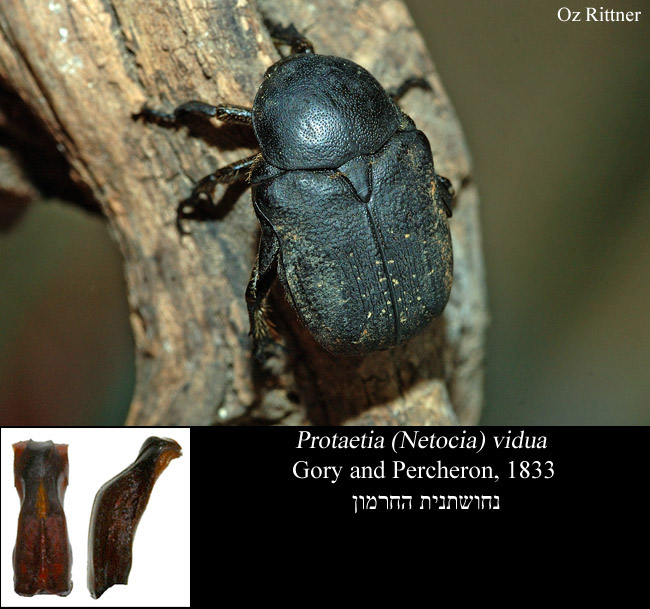Protaetia_vidua: (129, 12, 481, 368)
